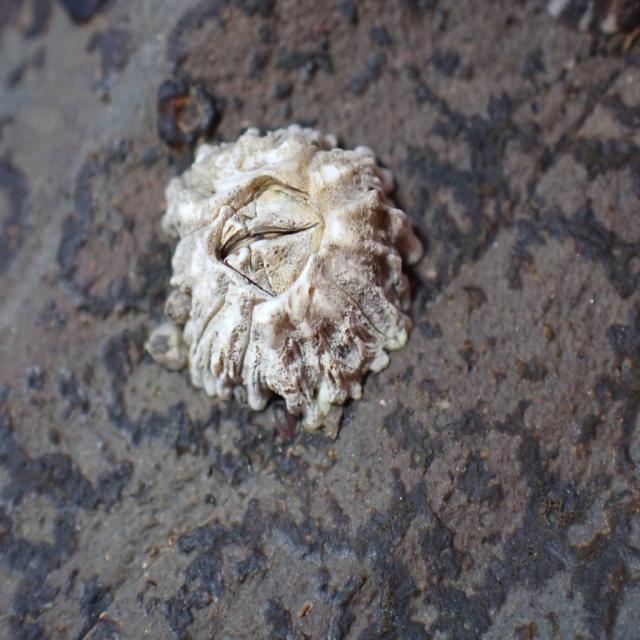barnacles: (139, 111, 417, 440)
